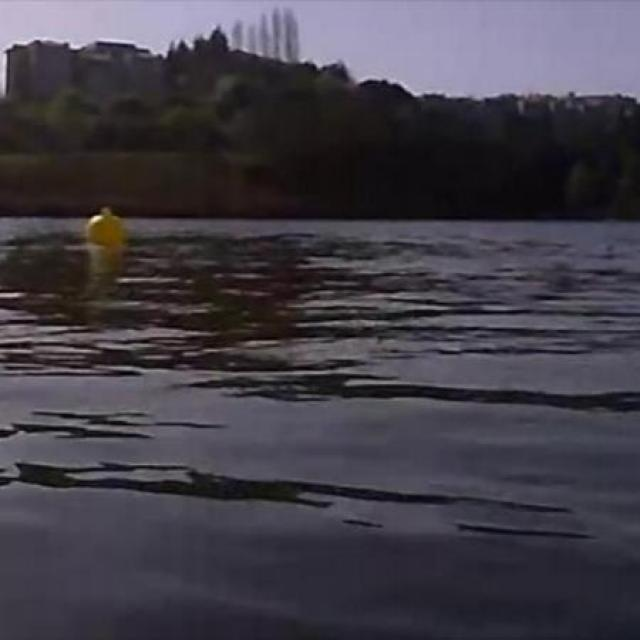buoy: (86, 206, 126, 250)
